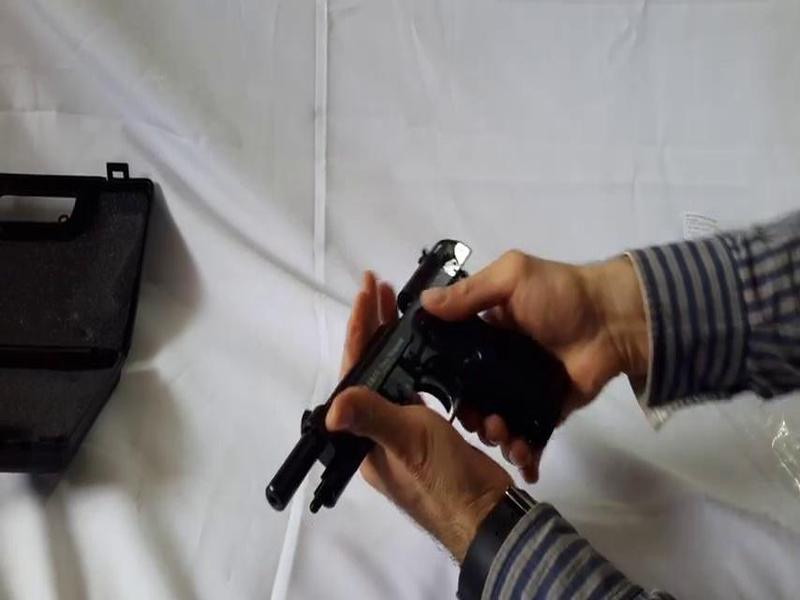Pistola: (243, 211, 590, 549)
